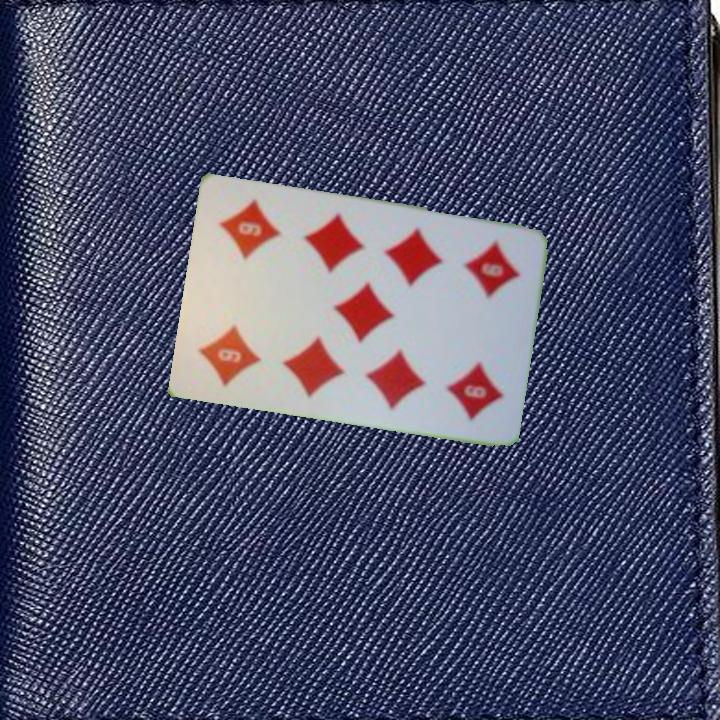d_9.png: (433, 227, 533, 338), (186, 283, 285, 395)
